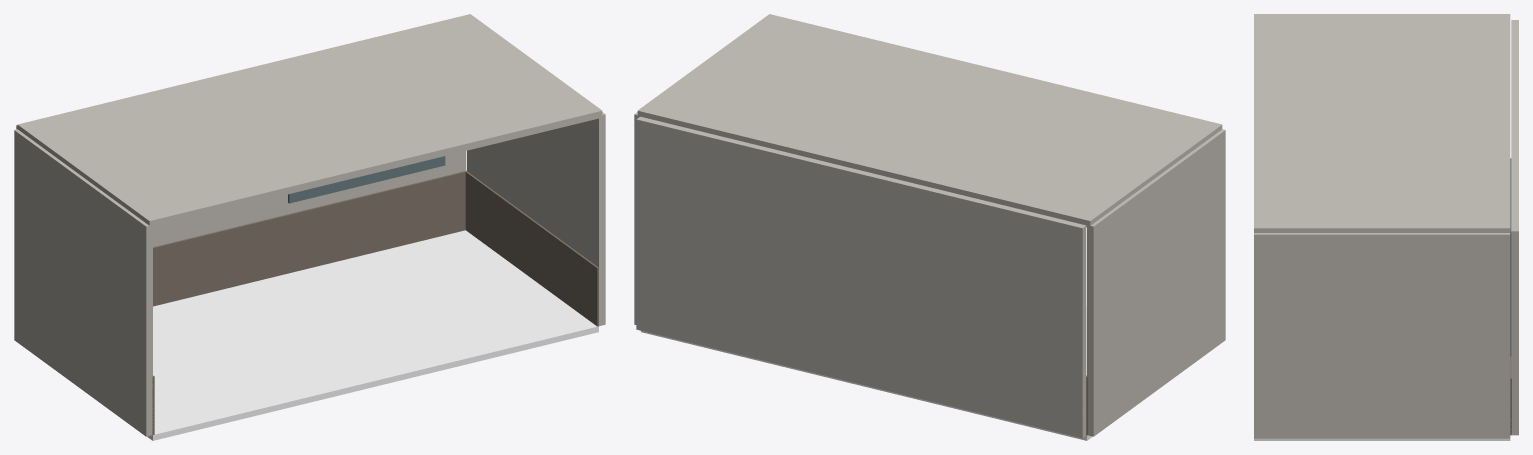
The model's file is RoomShell.glb.
3 views of the same model, side by side, from view 1: azimuth 30°, elevation 25°; view 2: azimuth 150°, elevation 25°; view 3: azimuth 270°, elevation 25° (orthographic). The views are drawn at different scales.
Visible parts, largest first — view 1: HeroCeiling, Floor, WallLeft, WainscotBack, WallRight, WainscotRight, WallBack, AccentPanel; view 2: WallBack, HeroCeiling, WallLeft, Floor, WallRight; view 3: HeroCeiling, WallRight, WallBack, Floor, AccentPanel.
Part boxes in pixels (x1,y1,x2,y2): HeroCeiling: (17,14,602,227); Floor: (147,230,598,440); WallLeft: (14,129,152,436); WainscotBack: (153,171,466,306); WallRight: (467,112,605,326); WainscotRight: (465,171,598,326); WallBack: (16,125,466,246); AccentPanel: (288,156,445,203); WallBack: (636,116,1086,438); HeroCeiling: (637,14,1222,227); WallLeft: (1087,129,1225,436); Floor: (641,306,1092,440); WallRight: (634,112,640,324); HeroCeiling: (1254,14,1510,232); WallRight: (1254,233,1510,438); WallBack: (1511,20,1518,435); Floor: (1254,438,1510,440); AccentPanel: (1510,158,1511,356).
Bounding box in the file's own units: 8.24 × 3.78 × 4.24.
